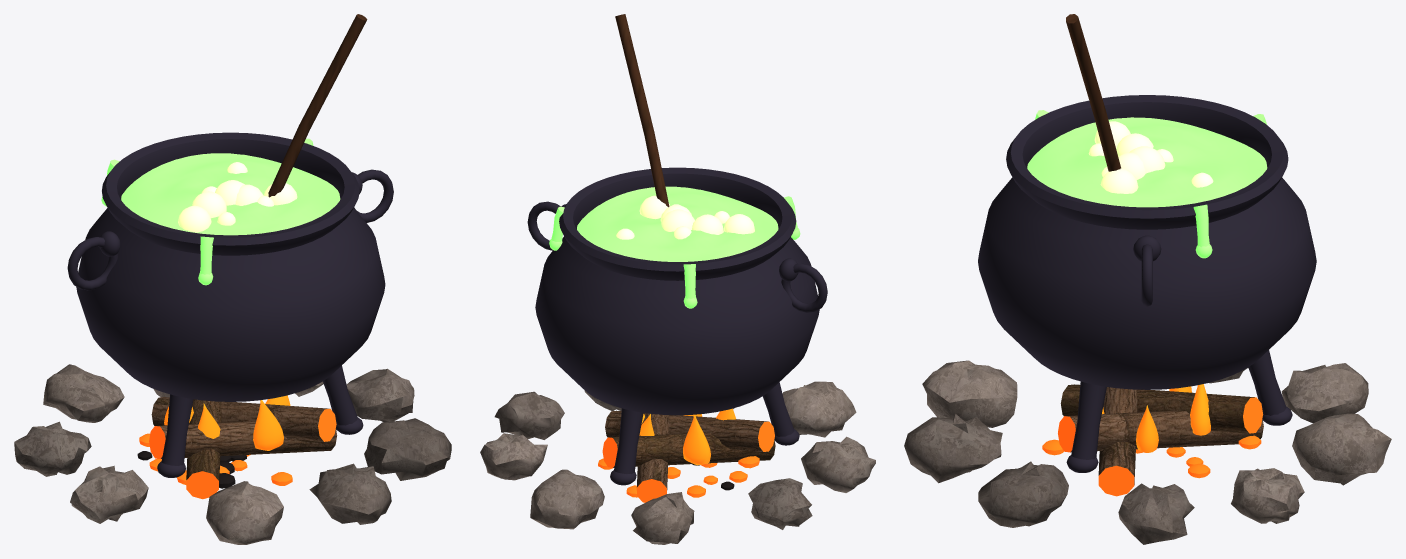
The model's file is manor_cauldron.glb.
3 views of the same model, side by side, from view 1: azimuth 30°, elevation 25°; view 2: azimuth 150°, elevation 25°; view 3: azimuth 270°, elevation 25° (orthographic). The views are drawn at different scales.
Parts seen in each view (by area): view 1: Cauldron; view 2: Cauldron; view 3: Cauldron.
Part boxes in pixels (box(x1,y1,x2,y2)): Cauldron: box(14, 14, 451, 544); Cauldron: box(480, 14, 875, 544); Cauldron: box(904, 14, 1391, 544).
Size of the model in its own units: 0.9988 by 1.16 by 1.04.
9 materials, 3 textured.
